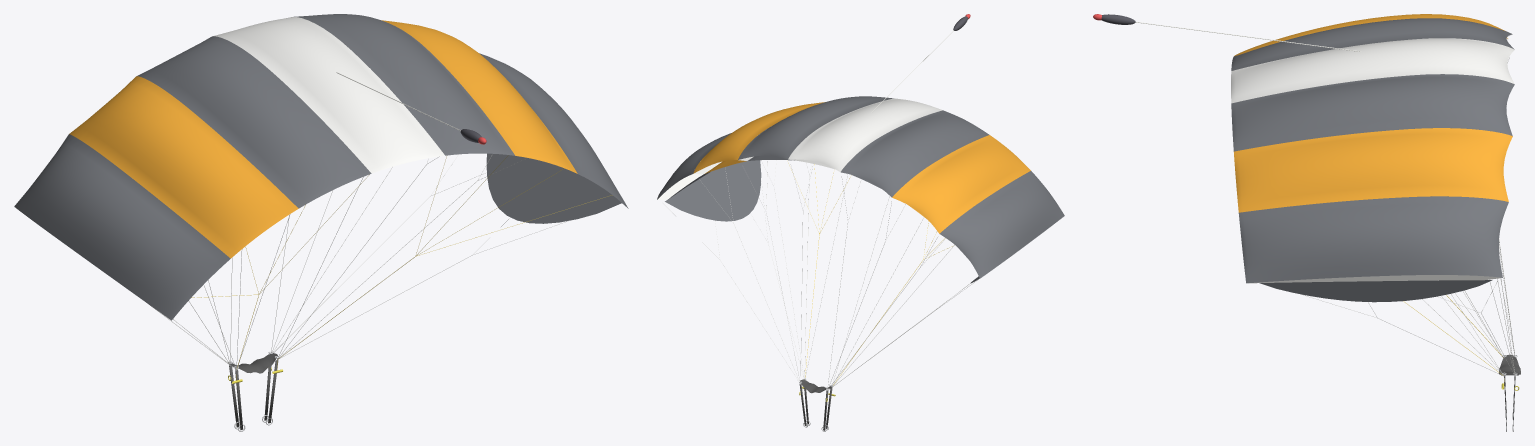
Rendered from PD_Storm_150.glb.
3 renders of one model, left to right at view 1: azimuth 30°, elevation 25°; view 2: azimuth 150°, elevation 25°; view 3: azimuth 270°, elevation 25°, orthographic. The views are drawn at different scales.
Parts seen in each view (by area): view 1: TopSkin, Stabilizers, Lines, SteeringLines, Risers; view 2: TopSkin, Stabilizers, Lines, BottomSkin, Ribs, Risers, SteeringLines; view 3: TopSkin, Stabilizers, Lines, Ribs, PilotChute.
Part boxes in pixels (left/top/right/bottom): TopSkin: left=14, top=14, right=628, bottom=320; Stabilizers: left=486, top=153, right=621, bottom=223; Lines: left=150, top=154, right=567, bottom=369; SteeringLines: left=191, top=155, right=612, bottom=379; Risers: left=228, top=354, right=282, bottom=431; TopSkin: left=657, top=96, right=1064, bottom=278; Stabilizers: left=665, top=160, right=979, bottom=283; Lines: left=663, top=160, right=977, bottom=390; BottomSkin: left=668, top=155, right=969, bottom=260; Ribs: left=657, top=156, right=796, bottom=199; Risers: left=799, top=380, right=835, bottom=431; SteeringLines: left=788, top=163, right=952, bottom=385; TopSkin: left=1231, top=14, right=1514, bottom=283; Stabilizers: left=1259, top=280, right=1492, bottom=302; Lines: left=1301, top=57, right=1515, bottom=376; Ribs: left=1249, top=34, right=1511, bottom=283; PilotChute: left=1093, top=14, right=1360, bottom=51.
Size of the model in its own units: 4.73 by 4.1 by 3.87.
